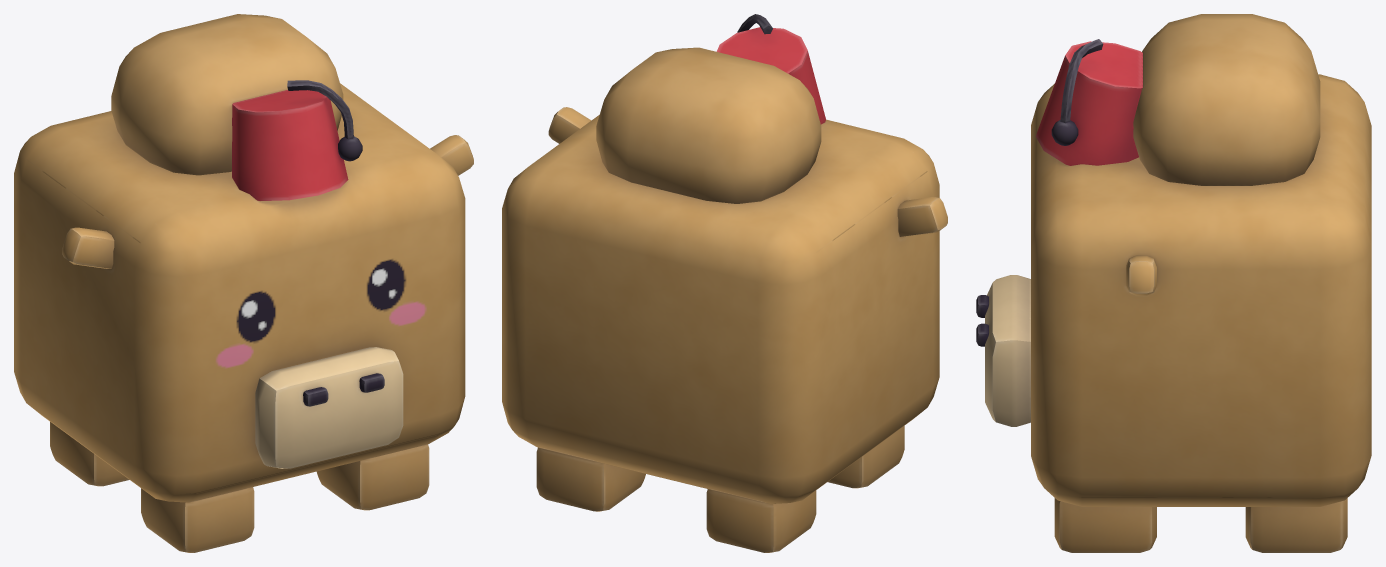
File: Camel.fbx
The picture shows the model from 3 angles, left to right: view 1: azimuth 30°, elevation 25°; view 2: azimuth 150°, elevation 25°; view 3: azimuth 270°, elevation 25°; orthographic projection. The views are drawn at different scales.
Parts seen in each view (by area): view 1: Camel; view 2: Camel; view 3: Camel.
Boxes of the visible parts, left/top/right/bottom form: Camel: left=14, top=14, right=473, bottom=552; Camel: left=502, top=14, right=947, bottom=552; Camel: left=976, top=14, right=1371, bottom=552.
Size of the model in its own units: 287 by 296 by 232.
1 material, 1 textured.
